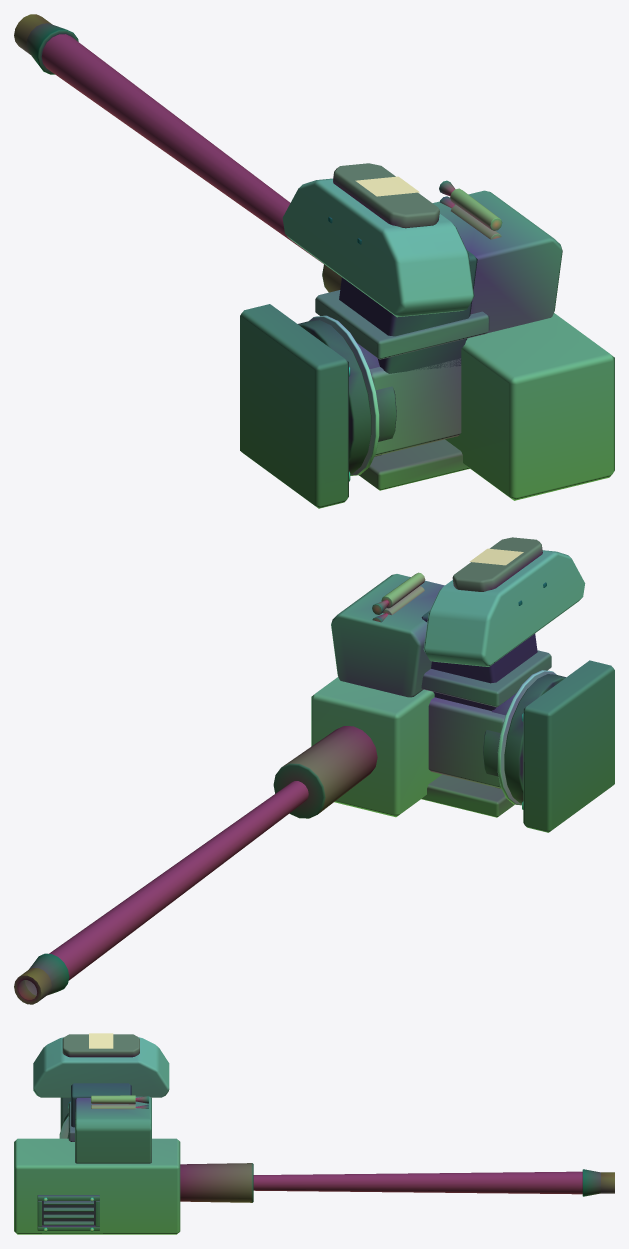
The model's file is arm_bofors40.glb.
3 views of the same model, one above another, from view 1: azimuth 30°, elevation 25°; view 2: azimuth 150°, elevation 25°; view 3: azimuth 270°, elevation 25° (orthographic). The views are drawn at different scales.
Visible parts, largest first — view 1: Body__armor, Body__gunmetal, Body__armor_sub, Body__dark, Body__armor_oxide, Body__chrome, Body__brass, Body__decal; view 2: Body__armor, Body__gunmetal, Body__armor_sub, Body__dark, Body__armor_oxide, Body__chrome, Body__brass; view 3: Body__armor, Body__gunmetal, Body__dark, Body__armor_sub, Body__armor_oxide, Body__brass, Body__decal.
Boxes of the visible parts, x1,y1,x2,y2 form: Body__armor: (282,178,614,500); Body__gunmetal: (41,34,396,508); Body__armor_sub: (315,190,562,490); Body__dark: (14,14,477,474); Body__armor_oxide: (333,163,455,228); Body__chrome: (309,315,379,481); Body__brass: (450,188,502,239); Body__decal: (355,176,419,196); Body__armor: (311,550,585,817); Body__gunmetal: (49,660,614,980); Body__armor_sub: (331,574,551,817); Body__dark: (14,582,565,1004); Body__armor_oxide: (372,537,542,622); Body__chrome: (497,670,556,809); Body__brass: (381,572,425,615); Body__armor: (14,1037,180,1234); Body__gunmetal: (37,1097,582,1230); Body__dark: (42,1083,614,1225); Body__armor_sub: (68,1096,151,1163); Body__armor_oxide: (62,1034,148,1108); Body__brass: (91,1095,135,1109); Body__decal: (89,1033,113,1048).
Bounding box in the file's own units: 0.861 × 0.8902 × 2.96.
